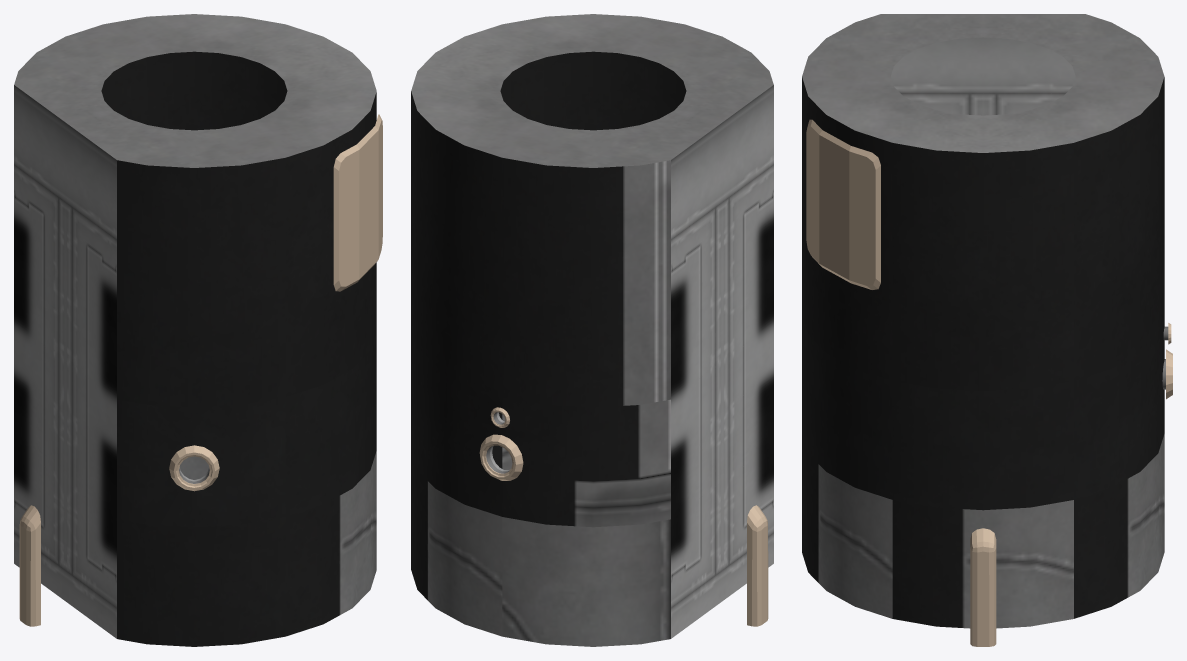
The model's file is mol_iva_mercury.obj.
3 renders of one model, left to right at view 1: azimuth 30°, elevation 25°; view 2: azimuth 150°, elevation 25°; view 3: azimuth 270°, elevation 25°, orthographic.
Visible parts, largest first — view 1: I2, i2; view 2: I2, i2; view 3: I2, i2.
Part boxes in pixels (x1,y1,x2,y2): I2: (14,14,376,646); i2: (19,114,382,626); I2: (411,14,773,646); i2: (479,407,768,626); I2: (802,14,1168,628); i2: (806,119,1172,646).
Bounding box in the file's own units: 1.33 × 1.82 × 1.25.
